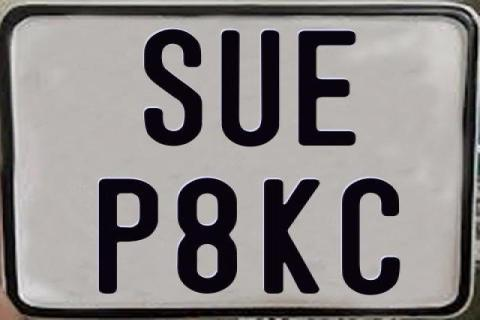0: (177, 175, 241, 292)
C: (340, 177, 404, 293)
E: (296, 28, 356, 144)
K: (261, 180, 318, 294)
P: (99, 177, 162, 293)
S: (143, 29, 203, 149)
U: (218, 29, 278, 147)
